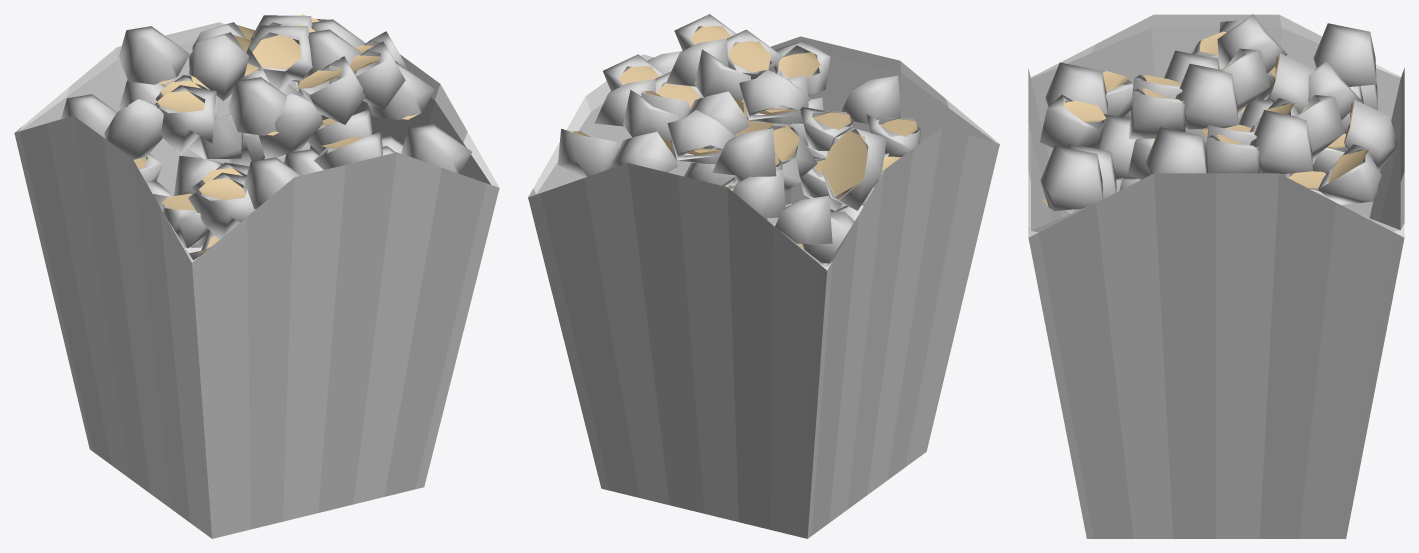
File: popcorn 1.fbx
3 views of the same model, side by side, from view 1: azimuth 30°, elevation 25°; view 2: azimuth 150°, elevation 25°; view 3: azimuth 270°, elevation 25° (orthographic). The views are drawn at different scales.
Parts seen in each view (by area): view 1: Cube, Sphere.009; view 2: Cube, Sphere.009; view 3: Cube, Sphere.009.
Part boxes in pixels (x1,y1,x2,y2): Cube: (14,22,499,538); Sphere.009: (61,14,471,259); Cube: (528,36,999,538); Sphere.009: (557,14,920,263); Cube: (1028,14,1404,538); Sphere.009: (1040,14,1397,213).
Size of the model in its own units: 747 by 990 by 747.
